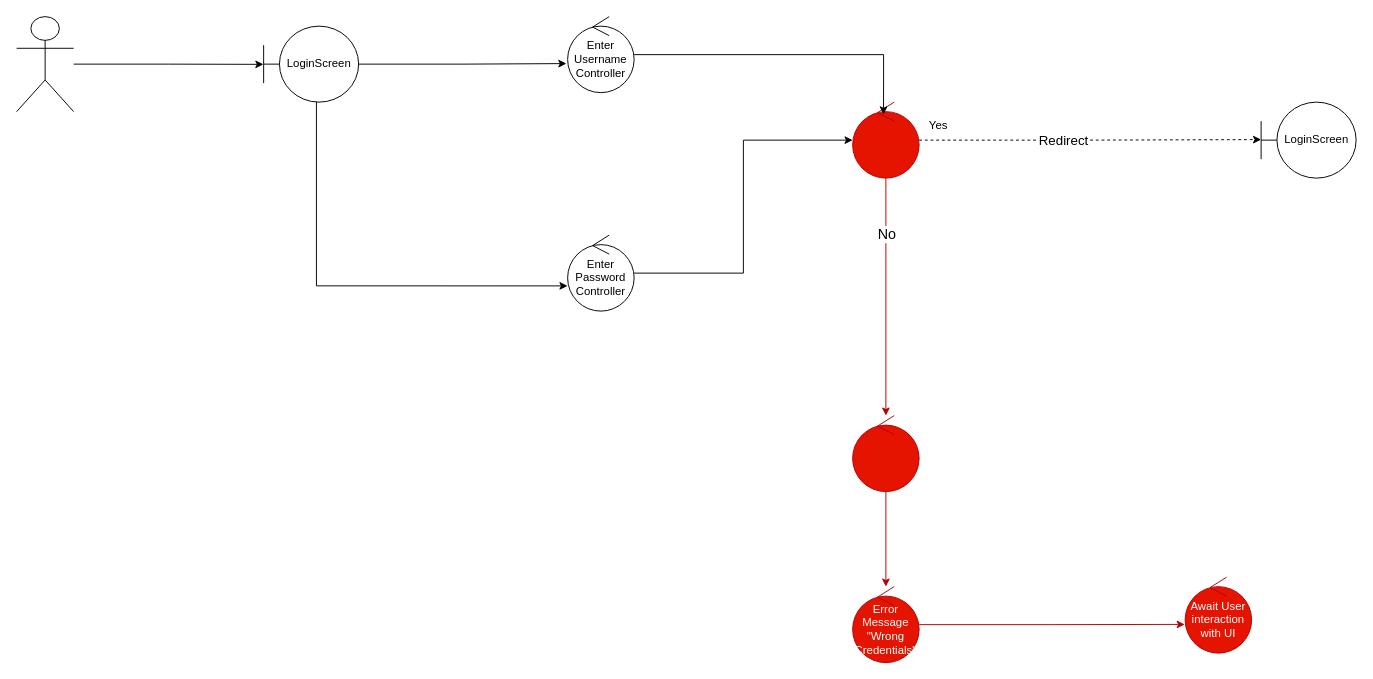
This 1373x679 diagram has some shape labels left out. Each missing label, with the centre of its shape:
"Do credentials match ?" belongs at point 885,139.
"Show" belongs at point 885,453.
"User" belongs at point 45,64.
